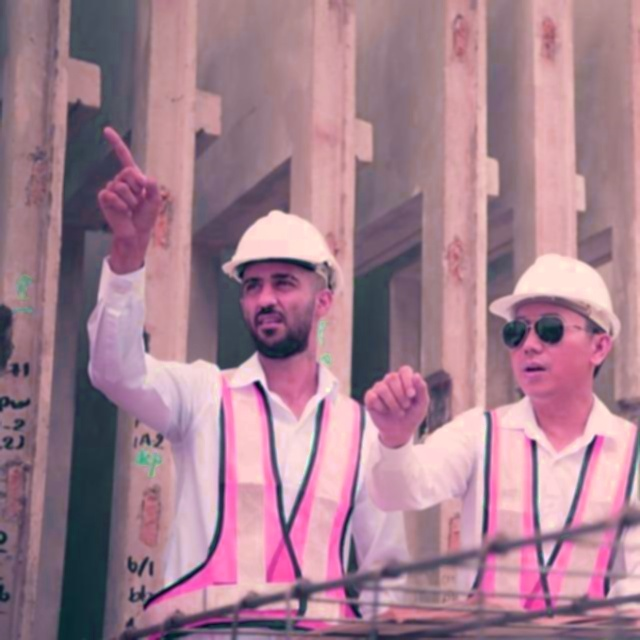Con_Casco: (492, 253, 626, 395), (224, 207, 341, 360)
Con_Chaleco: (153, 363, 363, 638), (471, 401, 640, 630)
